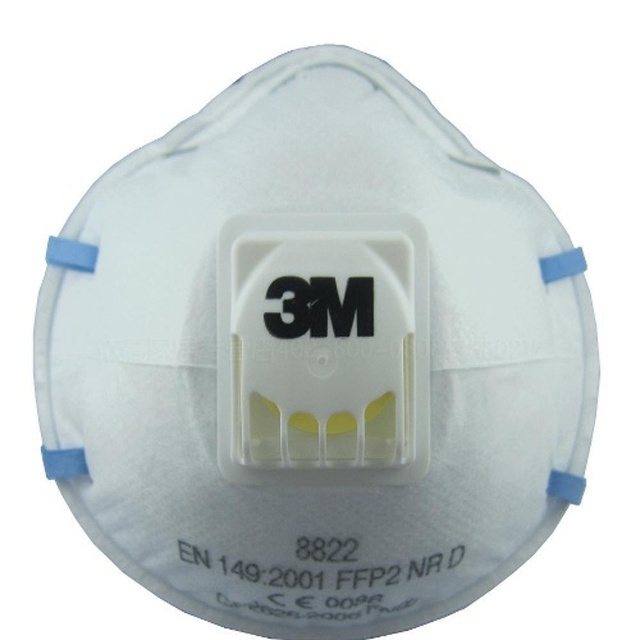mask: (27, 39, 609, 640)
